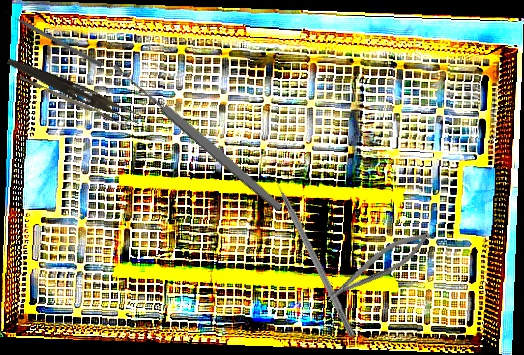Chopper: (19, 70, 130, 130)
Dressing Forceps: (3, 55, 145, 126)
Hook Surgical: (268, 167, 358, 338)
Needle Holder: (318, 224, 437, 308)
Pusher: (2, 8, 104, 68)
Surgical Spoon: (110, 59, 285, 214)
